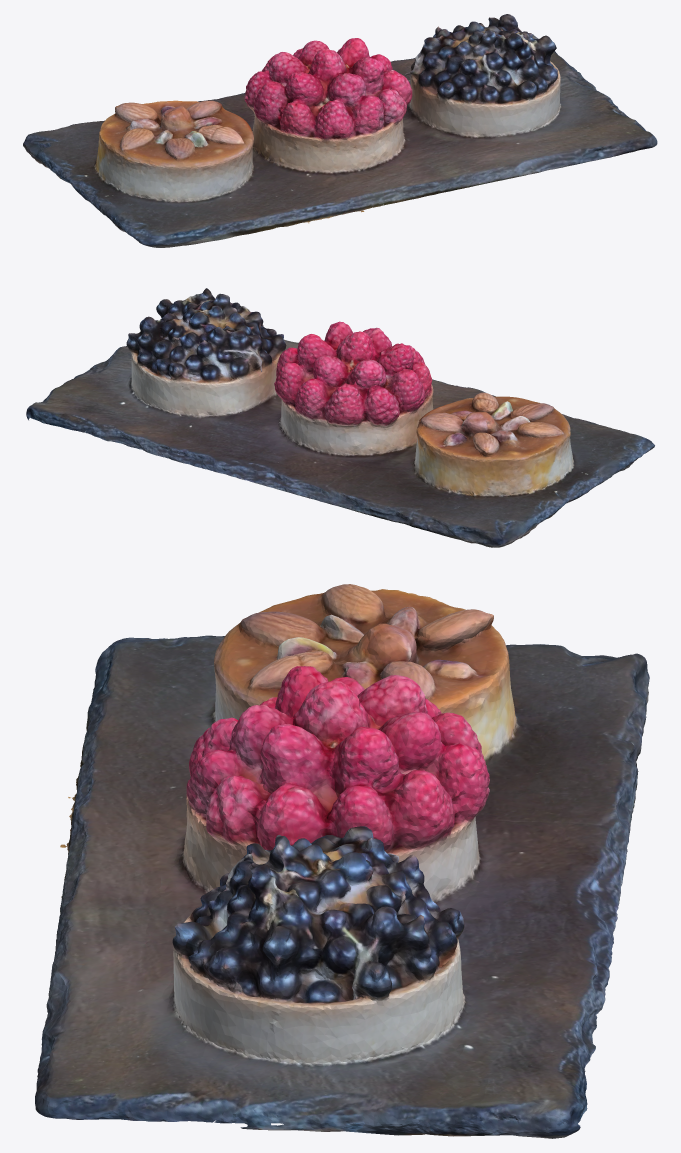
The model's file is se.ta.keik.gerd.toot.farangi.jadid.glb.
The picture shows the model from 3 angles, top to bottom: view 1: azimuth 30°, elevation 25°; view 2: azimuth 150°, elevation 25°; view 3: azimuth 270°, elevation 25°; orthographic projection. The views are drawn at different scales.
Parts seen in each view (by area): view 1: object 1; view 2: object 1; view 3: object 1.
Boxes of the visible parts, <box> form: object 1: <box>23,14,657,247</box>; object 1: <box>26,288,654,547</box>; object 1: <box>35,584,649,1138</box>.
Bounding box in the file's own units: 0.3213 × 0.0647 × 0.1845.
Materials: 2 (1 with a texture image).
